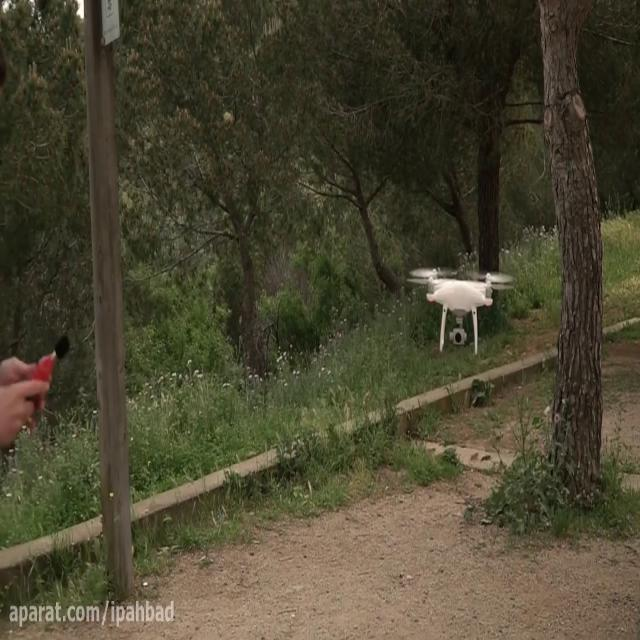drone: (404, 261, 516, 352)
